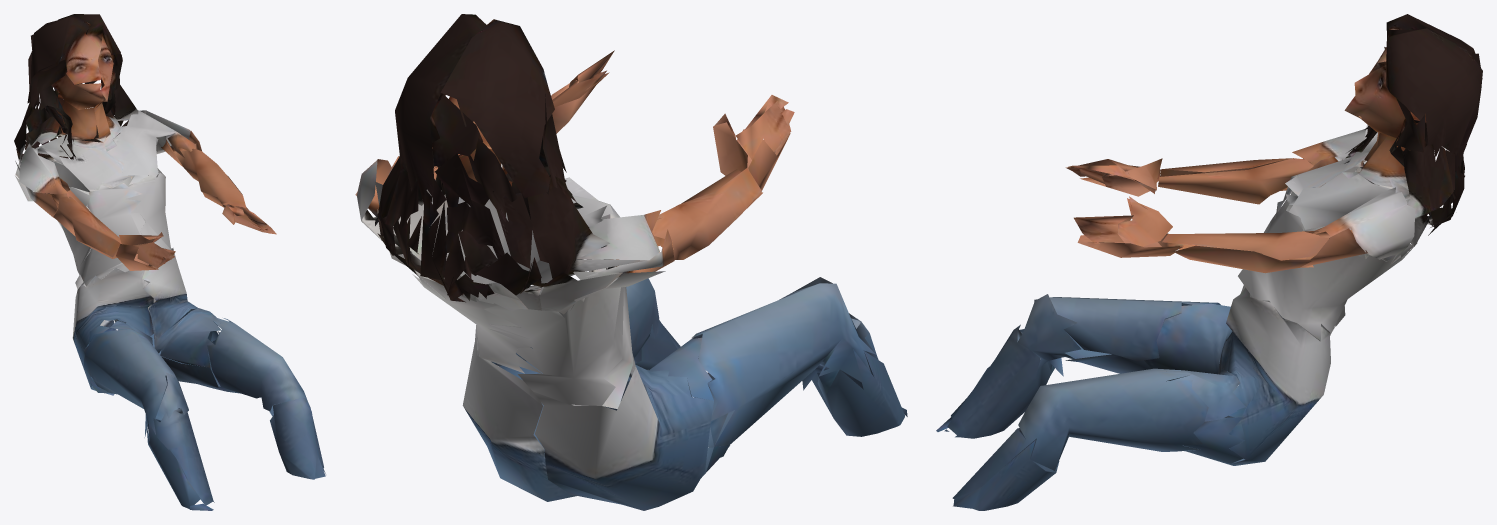
The model's file is femme.glb.
3 renders of one model, left to right at view 1: azimuth 30°, elevation 25°; view 2: azimuth 150°, elevation 25°; view 3: azimuth 270°, elevation 25°, orthographic. The views are drawn at different scales.
Parts seen in each view (by area): view 1: driver; view 2: driver; view 3: driver.
Boxes of the visible parts, <box> form: driver: <box>14,14,325,510</box>; driver: <box>355,14,907,510</box>; driver: <box>936,14,1482,510</box>.
Size of the model in its own units: 0.4851 by 0.9296 by 1.04.
Materials: 1 (1 with a texture image).
